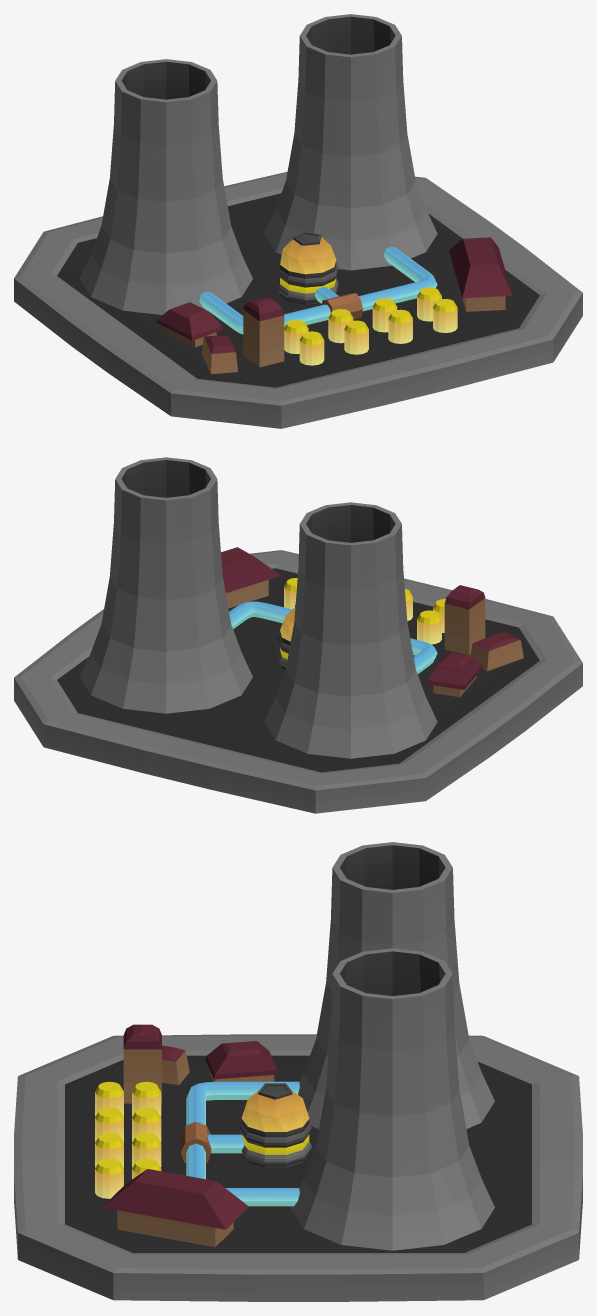
Rendered from Power_plant.glb.
The picture shows the model from 3 angles, top to bottom: view 1: azimuth 30°, elevation 25°; view 2: azimuth 150°, elevation 25°; view 3: azimuth 270°, elevation 25°; orthographic projection. The views are drawn at different scales.
Parts seen in each view (by area): view 1: Power_plant; view 2: Power_plant; view 3: Power_plant.
Boxes of the visible parts, left/top/right/bottom form: Power_plant: left=14, top=14, right=582, bottom=428; Power_plant: left=14, top=457, right=582, bottom=813; Power_plant: left=14, top=842, right=582, bottom=1301.
Bounding box in the file's own units: 44.01 × 22.28 × 44.01.
Materials: 2 (2 with a texture image).
